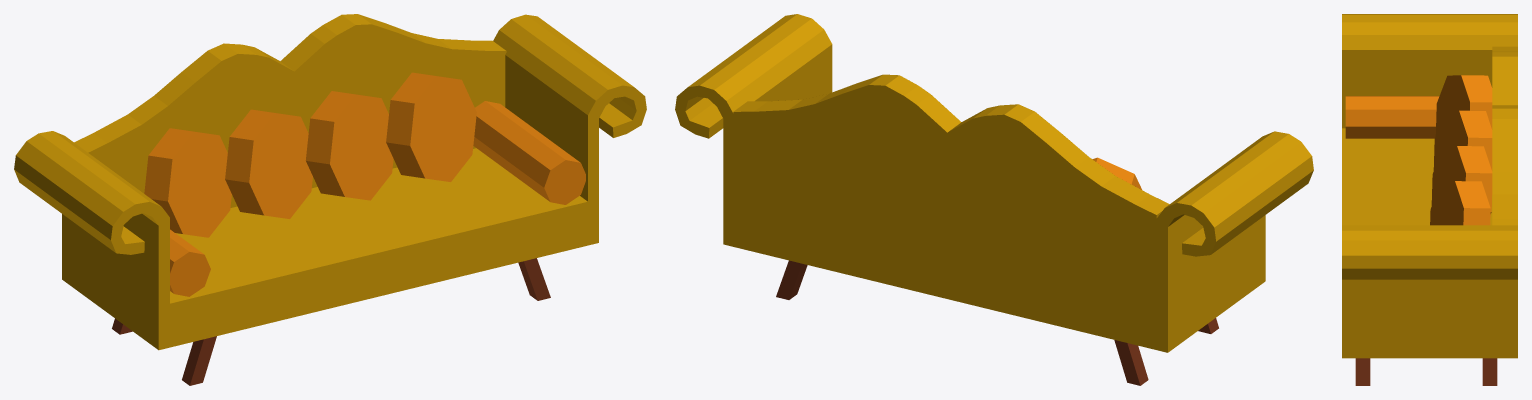
Rendered from canape1.fbx.
The picture shows the model from 3 angles, left to right: view 1: azimuth 30°, elevation 25°; view 2: azimuth 150°, elevation 25°; view 3: azimuth 270°, elevation 25°; orthographic projection. The views are drawn at different scales.
Visible parts, largest first — view 1: Canape3; view 2: Canape3; view 3: Canape3.
Part boxes in pixels (<box>): Canape3: <box>14,14,646,385</box>; Canape3: <box>675,14,1313,385</box>; Canape3: <box>1342,14,1517,385</box>.
Size of the model in its own units: 767 by 338 by 240.
